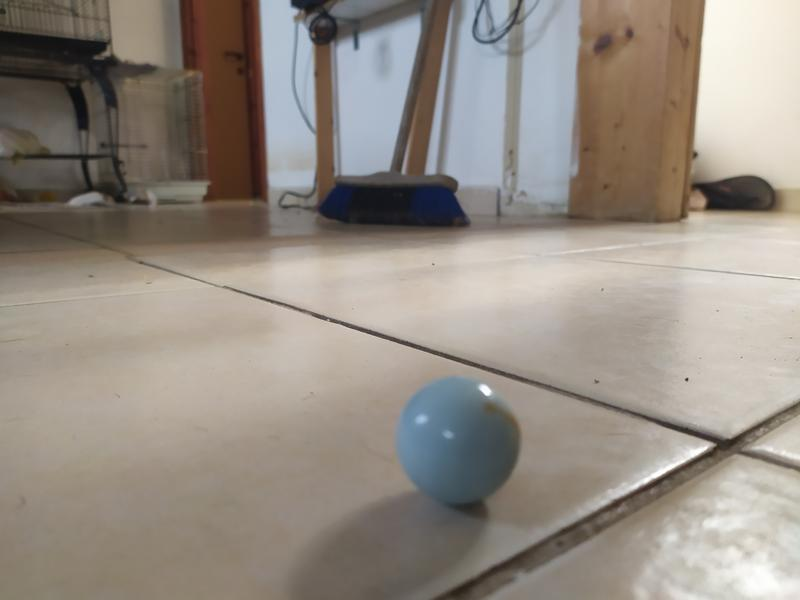Warning: (390, 371, 526, 512)
